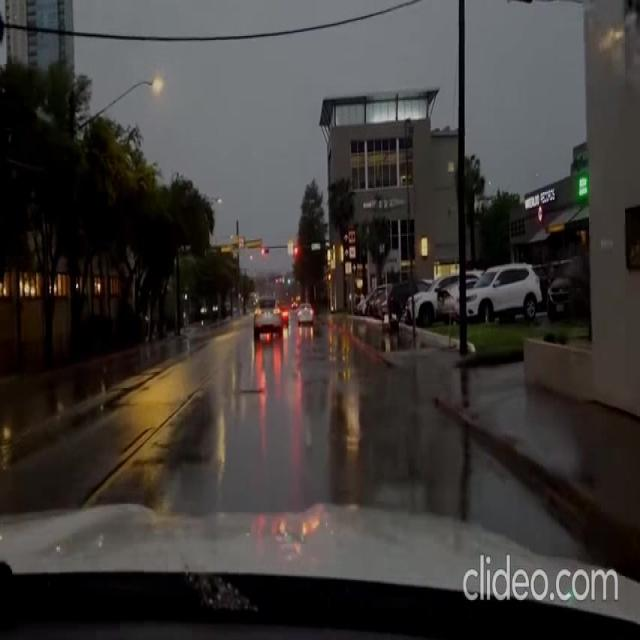Car: (459, 257, 543, 326), (404, 270, 463, 326), (544, 269, 580, 325), (253, 293, 282, 335), (296, 300, 312, 322)
